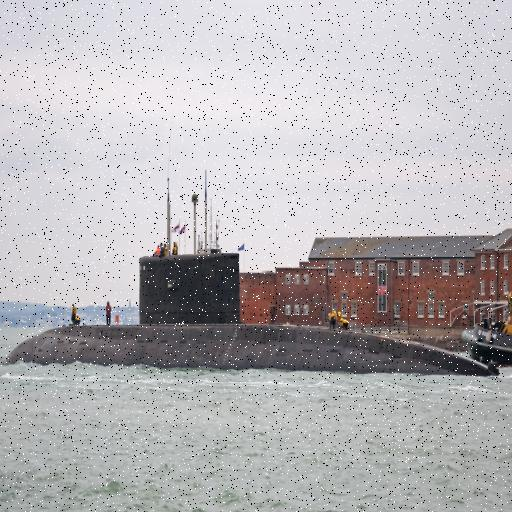submarine: (1, 171, 502, 375)
